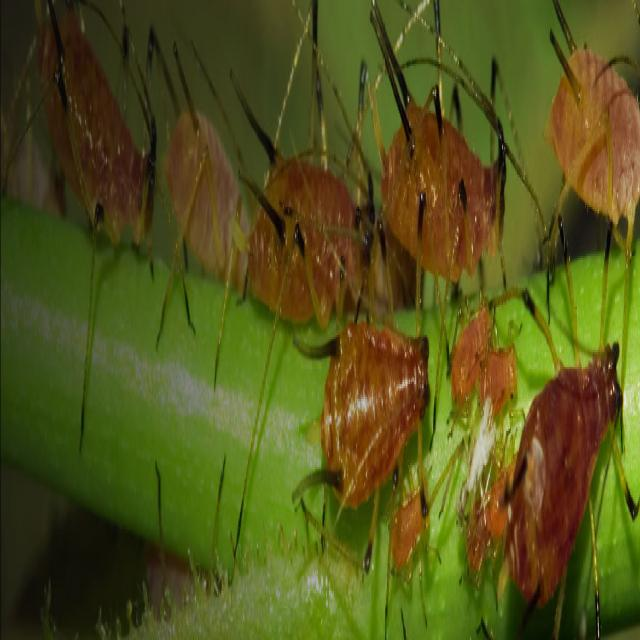Aphid-Grown-: (503, 263, 638, 611), (363, 8, 516, 294), (241, 64, 381, 350), (306, 284, 439, 524)
